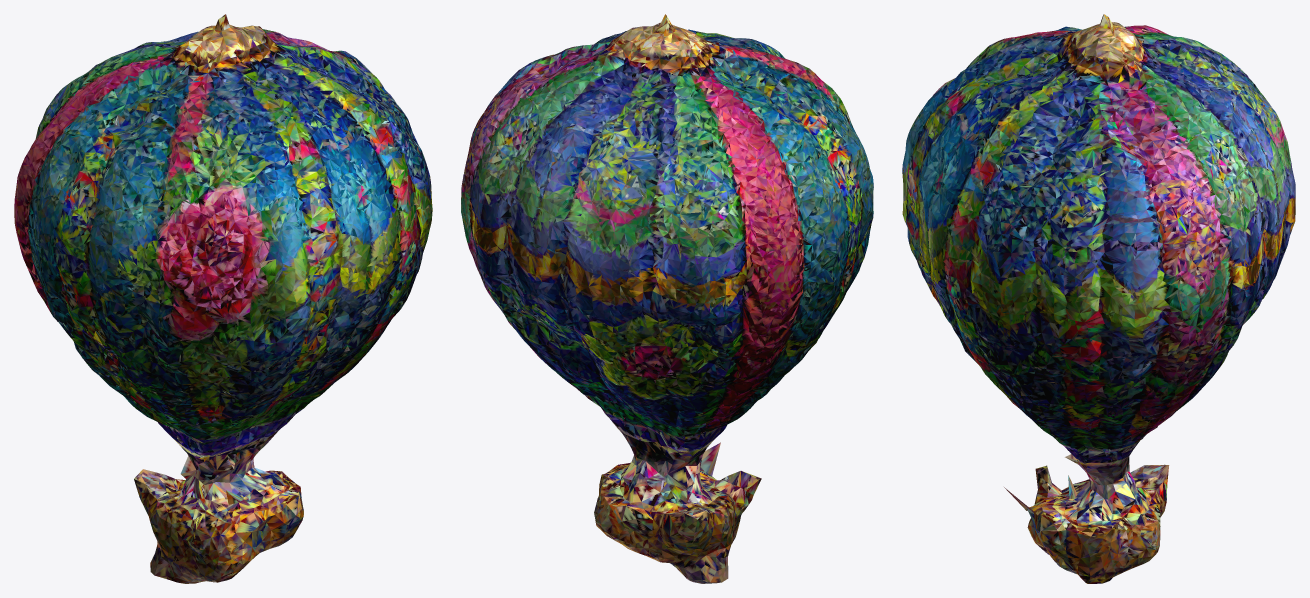
File: balloon-scribble.glb
3 renders of one model, left to right at view 1: azimuth 30°, elevation 25°; view 2: azimuth 150°, elevation 25°; view 3: azimuth 270°, elevation 25°, orthographic. The views are drawn at different scales.
Parts seen in each view (by area): view 1: extracted_mesh; view 2: extracted_mesh; view 3: extracted_mesh.
Boxes of the visible parts, x1,y1,x2,y2 form: extracted_mesh: [14, 14, 432, 583]; extracted_mesh: [461, 14, 873, 583]; extracted_mesh: [902, 14, 1295, 583].
Bounding box in the file's own units: 0.7014 × 1.04 × 0.6522.
Materials: 1 (1 with a texture image).
